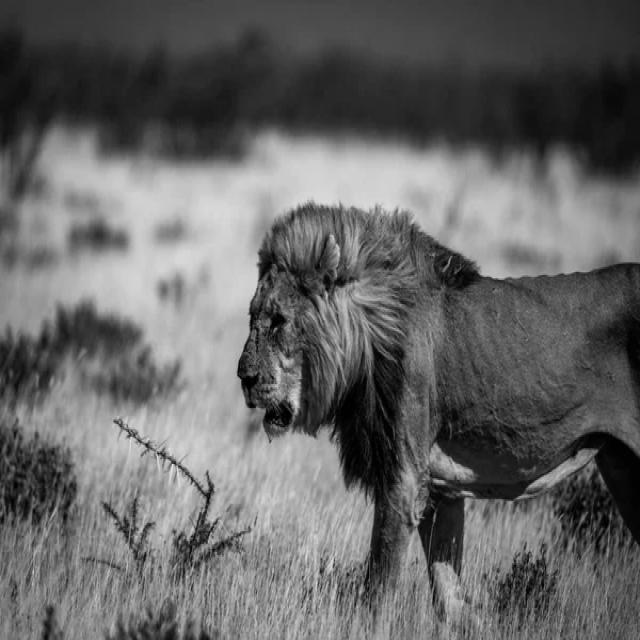Animal: (238, 205, 640, 612)
